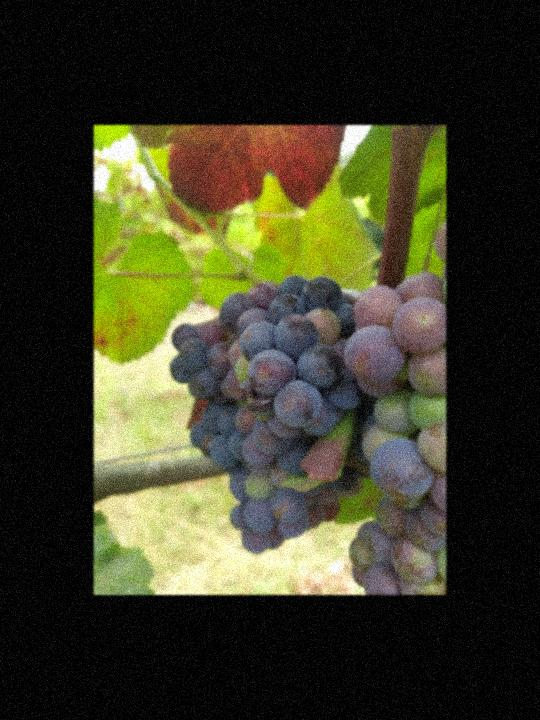grape: (167, 271, 388, 557)
